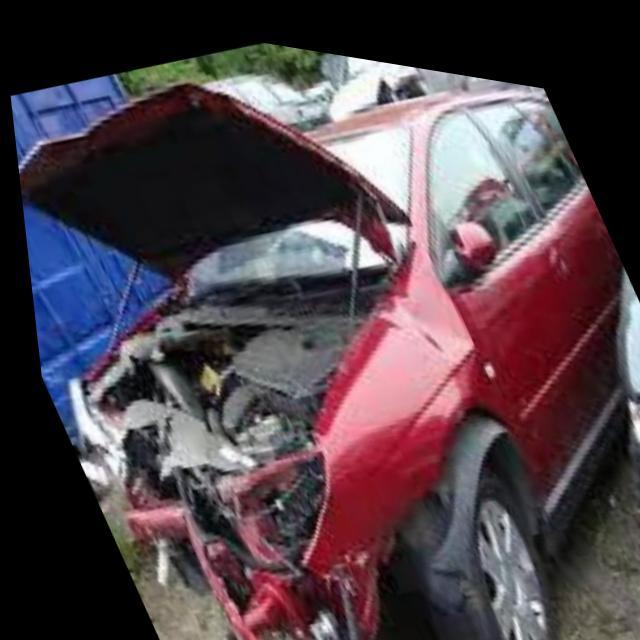crash: (67, 279, 499, 640)
